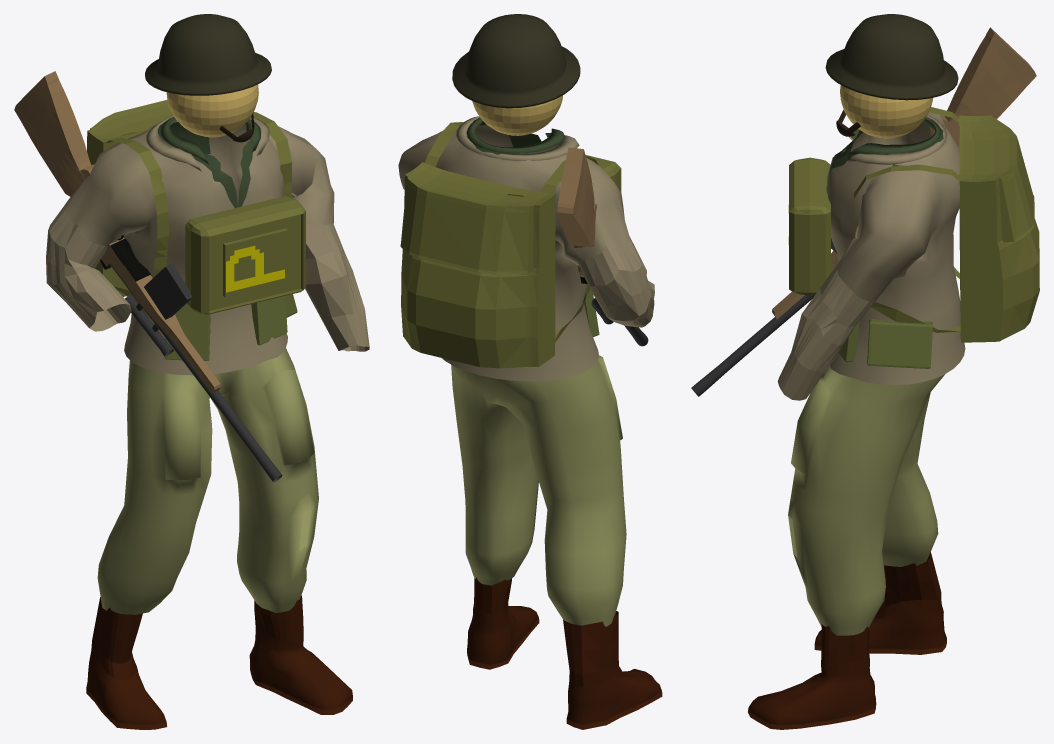
The model's file is Paratroopers.dae.
3 views of the same model, side by side, from view 1: azimuth 30°, elevation 25°; view 2: azimuth 150°, elevation 25°; view 3: azimuth 270°, elevation 25° (orthographic).
Visible parts, largest first — view 1: pants, jacket, Cube_004, hat, Plane, shoe_left, shoe_right, Sphere, back_parachute, shirt, Circle, Cylinder_001 (+7 smaller); view 2: pants, back_parachute, jacket, hat, shoe_right, shoe_left, Plane, Sphere, shirt, Circle_001, Circle, Cube_004; view 3: jacket, pants, back_parachute, hat, shoe_left, shoe_right, Cube_004, Plane, Sphere, Cube_003, Cylinder_001, shirt (+1 smaller).
Part boxes in pixels (bbox=[...]): pants: bbox=[97, 348, 318, 614]; jacket: bbox=[46, 116, 369, 375]; Cube_004: bbox=[185, 196, 305, 314]; hat: bbox=[145, 14, 271, 95]; Plane: bbox=[14, 71, 220, 392]; shoe_left: bbox=[249, 595, 352, 714]; shoe_right: bbox=[86, 597, 167, 729]; Sphere: bbox=[166, 84, 258, 137]; back_parachute: bbox=[87, 100, 173, 296]; shirt: bbox=[158, 117, 260, 207]; Circle: bbox=[106, 137, 168, 301]; Cylinder_001: bbox=[111, 265, 282, 482]; pants: bbox=[451, 355, 626, 626]; back_parachute: bbox=[400, 162, 555, 368]; jacket: bbox=[398, 116, 654, 381]; hat: bbox=[452, 14, 580, 108]; shoe_right: bbox=[563, 611, 662, 729]; shoe_left: bbox=[467, 577, 539, 669]; Plane: bbox=[557, 147, 596, 277]; Sphere: bbox=[472, 95, 562, 135]; shirt: bbox=[466, 117, 565, 154]; Circle_001: bbox=[424, 122, 462, 166]; Circle: bbox=[542, 154, 598, 341]; Cube_004: bbox=[588, 155, 621, 192]; jacket: bbox=[777, 112, 965, 400]; pants: bbox=[788, 365, 944, 635]; back_parachute: bbox=[959, 115, 1039, 342]; hat: bbox=[825, 14, 958, 100]; shoe_left: bbox=[748, 623, 876, 729]; shoe_right: bbox=[814, 552, 946, 654]; Cube_004: bbox=[789, 157, 830, 295]; Plane: bbox=[772, 27, 1036, 319]; Sphere: bbox=[840, 85, 932, 138]; Cube_003: bbox=[867, 319, 932, 368]; Cylinder_001: bbox=[691, 295, 814, 396]; shirt: bbox=[828, 118, 943, 176].
Bounding box in the file's own units: 0.9854 × 1.14 × 2.41.
